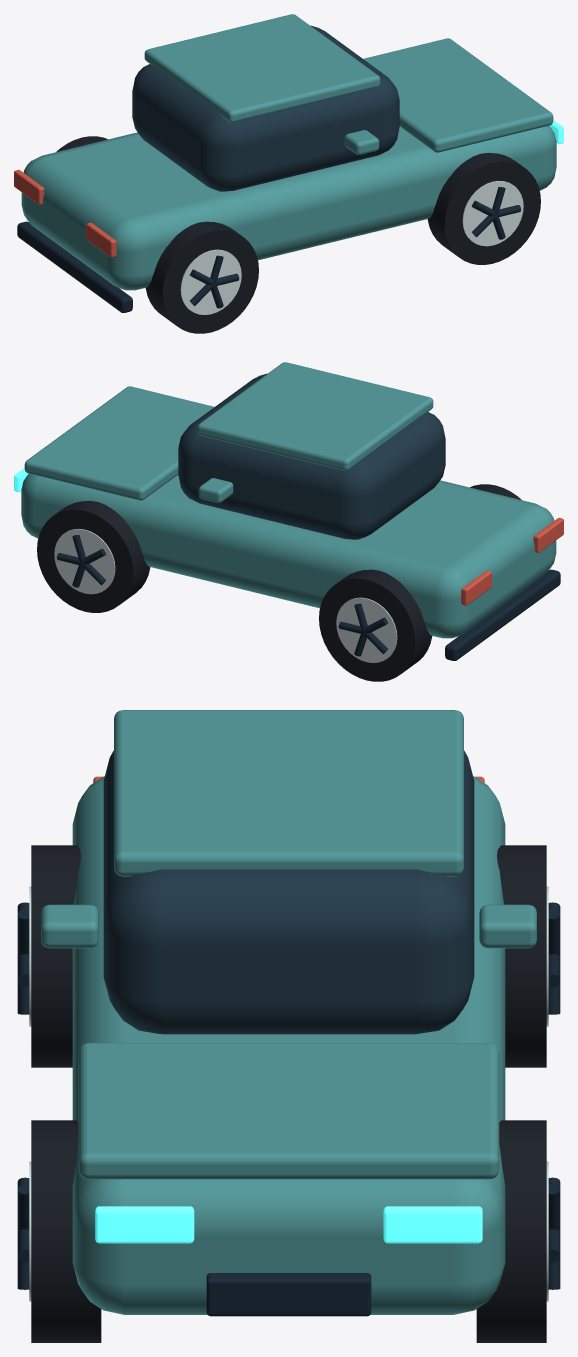
The model's file is gta.glb.
The picture shows the model from 3 angles, top to bottom: view 1: azimuth 30°, elevation 25°; view 2: azimuth 150°, elevation 25°; view 3: azimuth 270°, elevation 25°; orthographic projection. The views are drawn at different scales.
Parts seen in each view (by area): view 1: Coupe body, Panoramic cabin, Roof, Tire (×2), Hood, Alloy wheel (×2), Rear diffuser, Tail lamp (×2), Mirror; view 2: Coupe body, Panoramic cabin, Roof, Tire (×2), Hood, Alloy wheel (×2), Rear diffuser, Tail lamp (×2), Mirror; view 3: Coupe body, Panoramic cabin, Hood, Roof, Tire (×4), Headlamp (×2), Intake, Mirror (×2).
Boxes of the visible parts, x1,y1,x2,y2 form: Coupe body: (21,125,556,290); Panoramic cabin: (132,25,399,191); Roof: (144,14,380,122); Tire (×2): (145,153,540,333); Hood: (363,38,553,152); Alloy wheel (×2): (180,181,523,314); Rear diffuser: (17,221,132,312); Tail lamp (×2): (14,169,116,257); Mirror: (344,130,379,154); Coupe body: (21,473,556,638); Panoramic cabin: (178,373,445,539); Roof: (197,362,433,470); Tire (×2): (37,501,432,681); Hood: (24,386,214,500); Alloy wheel (×2): (54,529,397,662); Rear diffuser: (445,569,560,660); Tail lamp (×2): (461,517,563,605); Mirror: (198,478,233,502); Coupe body: (72,776,505,1314); Panoramic cabin: (103,750,474,1034); Hood: (78,1043,499,1179); Roof: (114,710,463,876); Tire (×4): (31,845,546,1342); Headlamp (×2): (95,1206,482,1243); Intake: (206,1273,371,1316); Mirror (×2): (41,904,536,948).
Size of the model in its own units: 2.57 by 1.04 by 1.32.
